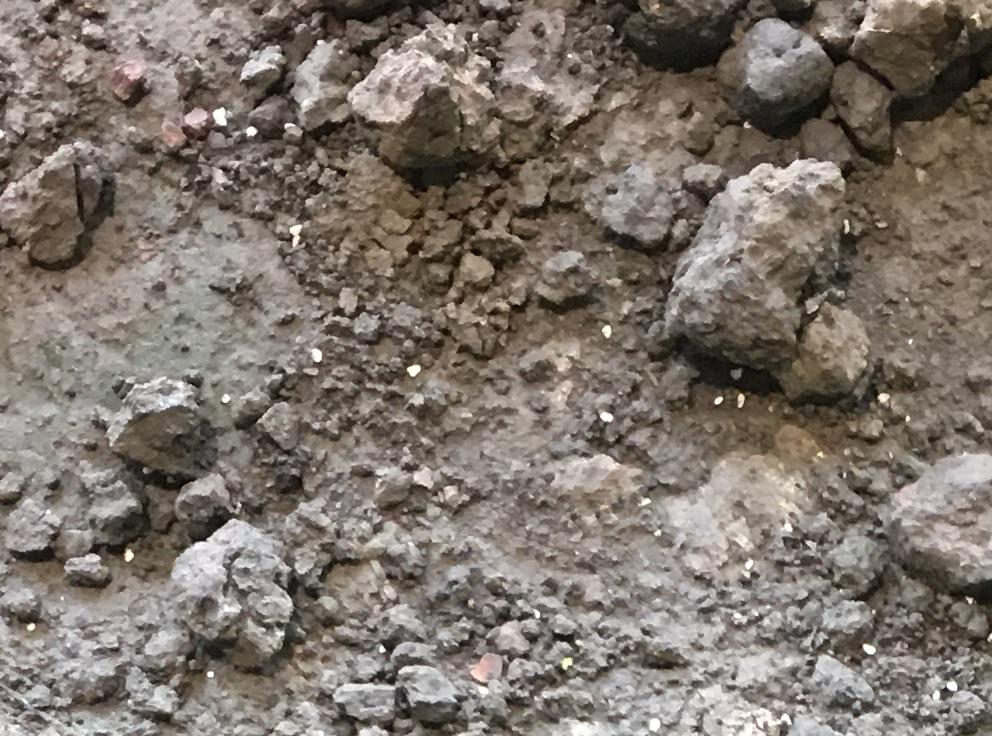block: (658, 159, 841, 375), (344, 32, 501, 174), (165, 524, 291, 673), (883, 448, 992, 601), (1, 142, 123, 267), (717, 16, 839, 124), (108, 383, 200, 482)
